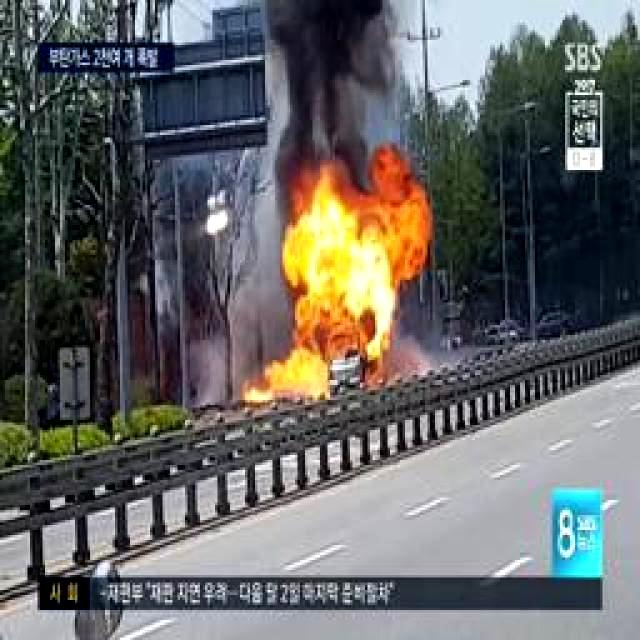fire: (286, 214, 398, 348), (255, 356, 327, 402)
